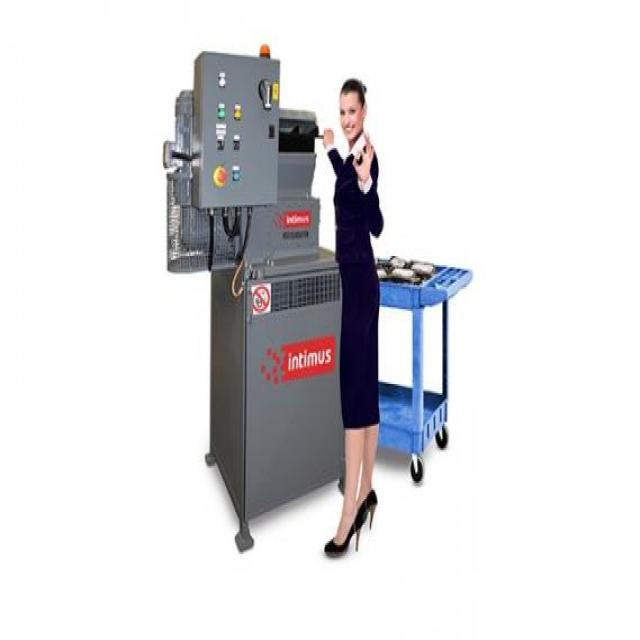palette: (165, 42, 341, 545)
